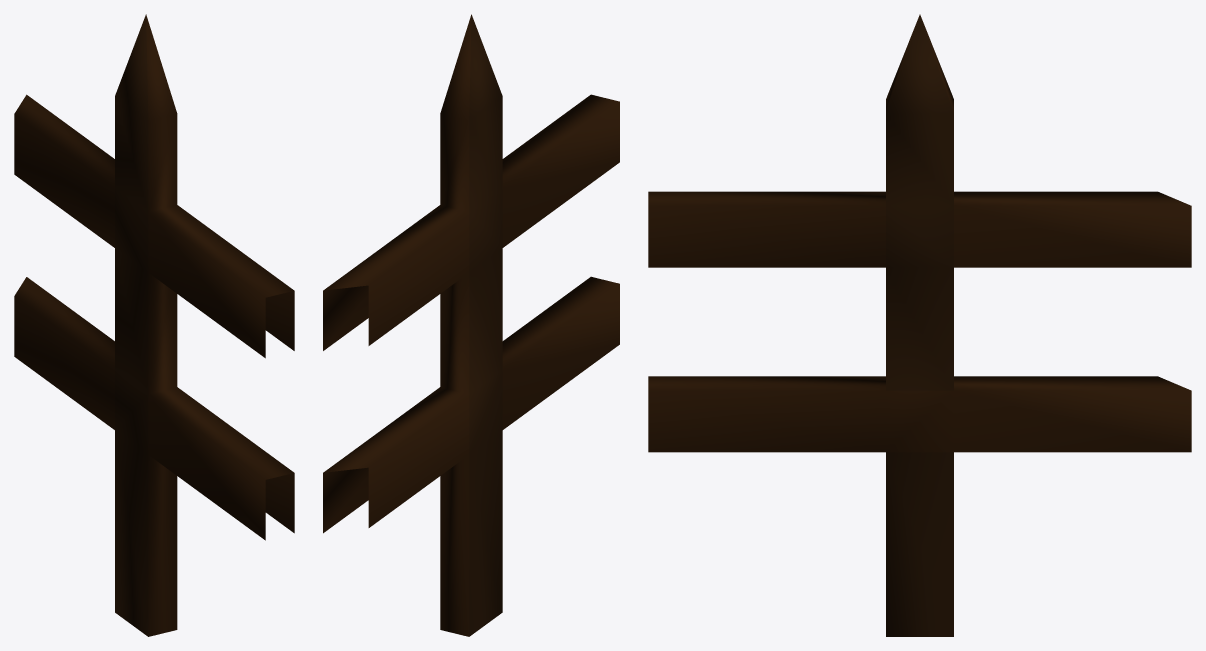
3 renders of one model, left to right at view 1: azimuth 30°, elevation 25°; view 2: azimuth 150°, elevation 25°; view 3: azimuth 270°, elevation 25°, orthographic.
Parts seen in each view (by area): view 1: 1011; view 2: 1011; view 3: 1011.
Part boxes in pixels (x1,y1,x2,y2): 1011: (14, 14, 294, 636); 1011: (323, 14, 619, 636); 1011: (648, 14, 1191, 636).
Bounding box in the file's own units: 0.08 × 1.6 × 1.28.
